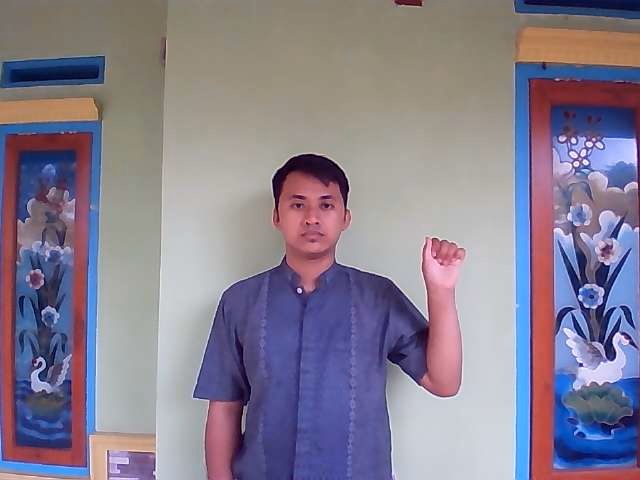A: (413, 230, 470, 303)
